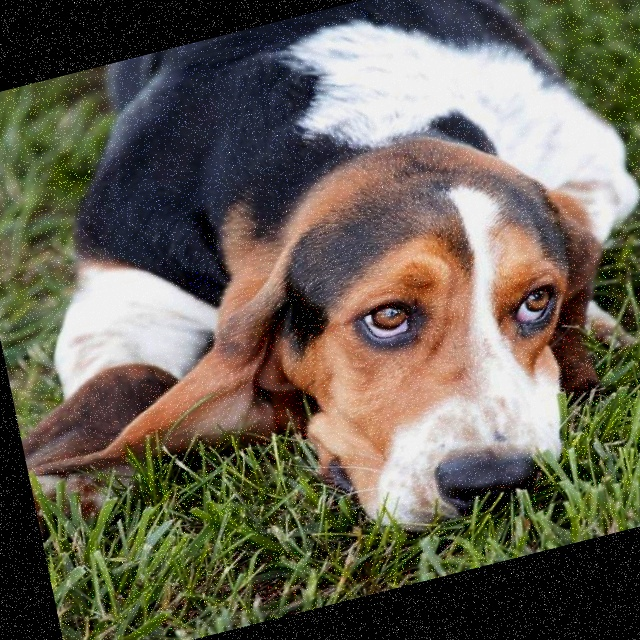dog: (12, 0, 640, 640)
